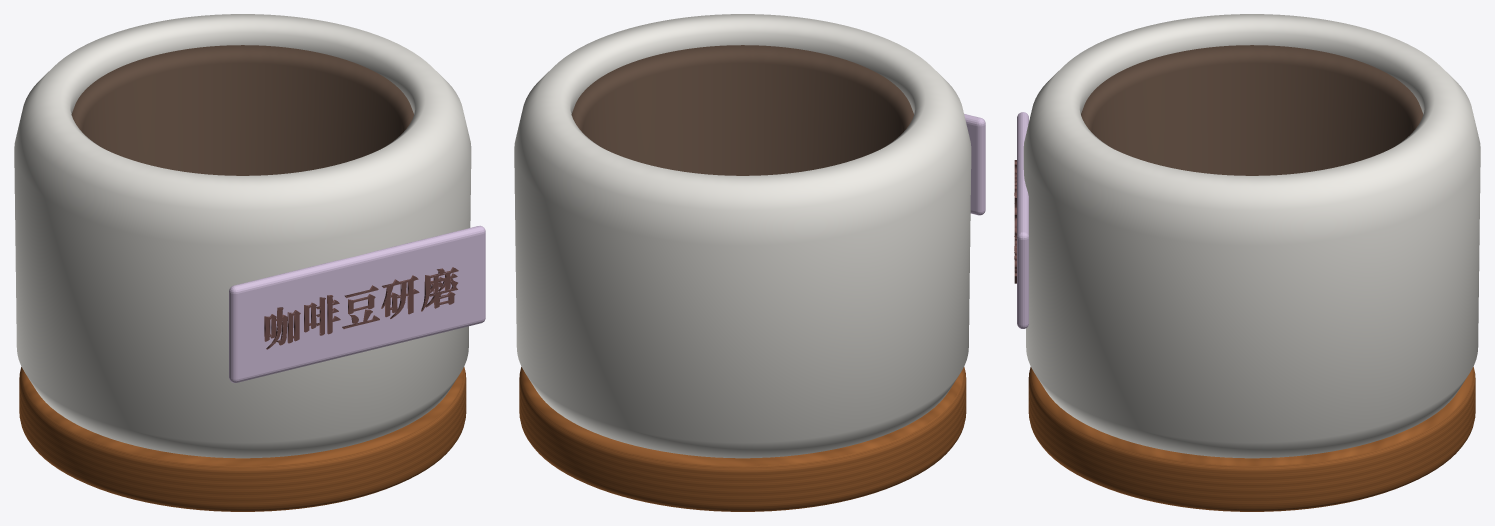
Rendered from CoffeeGrinderMortar_180x140mm.fbx.
3 renders of one model, left to right at view 1: azimuth 30°, elevation 25°; view 2: azimuth 150°, elevation 25°; view 3: azimuth 270°, elevation 25°, orthographic.
Parts seen in each view (by area): view 1: CoffeeGrinder_CeramicMortar, CoffeeGrinder_GrindingLiner, CoffeeGrinder_WoodBase, CoffeeGrinder_LabelPlate, CoffeeGrinder_LabelText; view 2: CoffeeGrinder_CeramicMortar, CoffeeGrinder_GrindingLiner, CoffeeGrinder_WoodBase, CoffeeGrinder_LabelPlate; view 3: CoffeeGrinder_CeramicMortar, CoffeeGrinder_GrindingLiner, CoffeeGrinder_WoodBase, CoffeeGrinder_LabelPlate.
Part boxes in pixels (box(x1,y1,x2,y2)): CoffeeGrinder_CeramicMortar: box(14, 14, 471, 458); CoffeeGrinder_GrindingLiner: box(71, 45, 413, 175); CoffeeGrinder_WoodBase: box(19, 367, 466, 511); CoffeeGrinder_LabelPlate: box(229, 225, 485, 382); CoffeeGrinder_LabelText: box(264, 267, 458, 349); CoffeeGrinder_CeramicMortar: box(514, 14, 971, 458); CoffeeGrinder_GrindingLiner: box(571, 45, 913, 175); CoffeeGrinder_WoodBase: box(519, 367, 966, 511); CoffeeGrinder_LabelPlate: box(964, 114, 985, 215); CoffeeGrinder_CeramicMortar: box(1023, 14, 1480, 458); CoffeeGrinder_GrindingLiner: box(1081, 45, 1423, 175); CoffeeGrinder_WoodBase: box(1028, 367, 1475, 511); CoffeeGrinder_LabelPlate: box(1017, 112, 1028, 328).
Bounding box in the file's own units: 0.18 × 0.14 × 0.1837.
5 materials, 1 textured.
